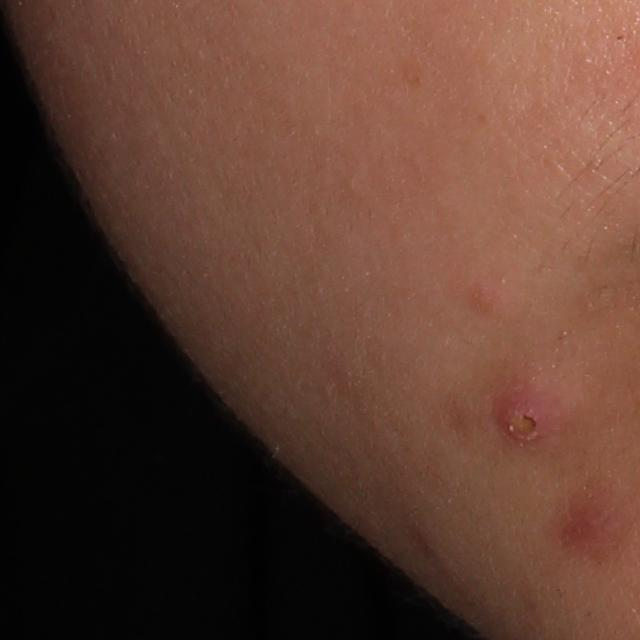papule: (490, 381, 565, 459), (456, 279, 502, 319)
